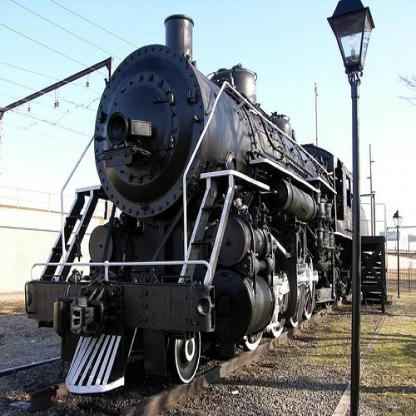train: (27, 11, 381, 397)
